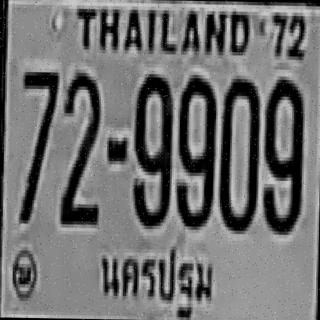N00: (218, 75, 258, 230)
N02: (59, 67, 99, 223)
N07: (18, 68, 58, 220)
N09: (131, 70, 172, 226), (261, 76, 302, 231), (174, 71, 215, 226)
P28: (95, 238, 218, 320)
